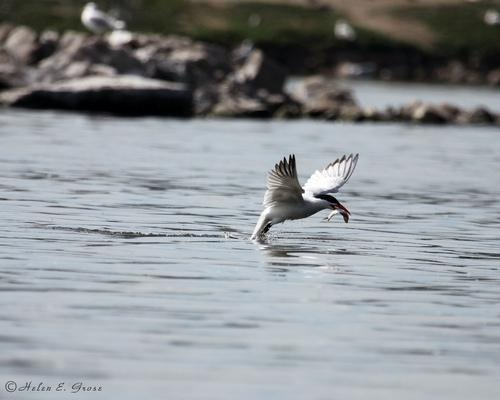bird: (247, 151, 364, 245)
